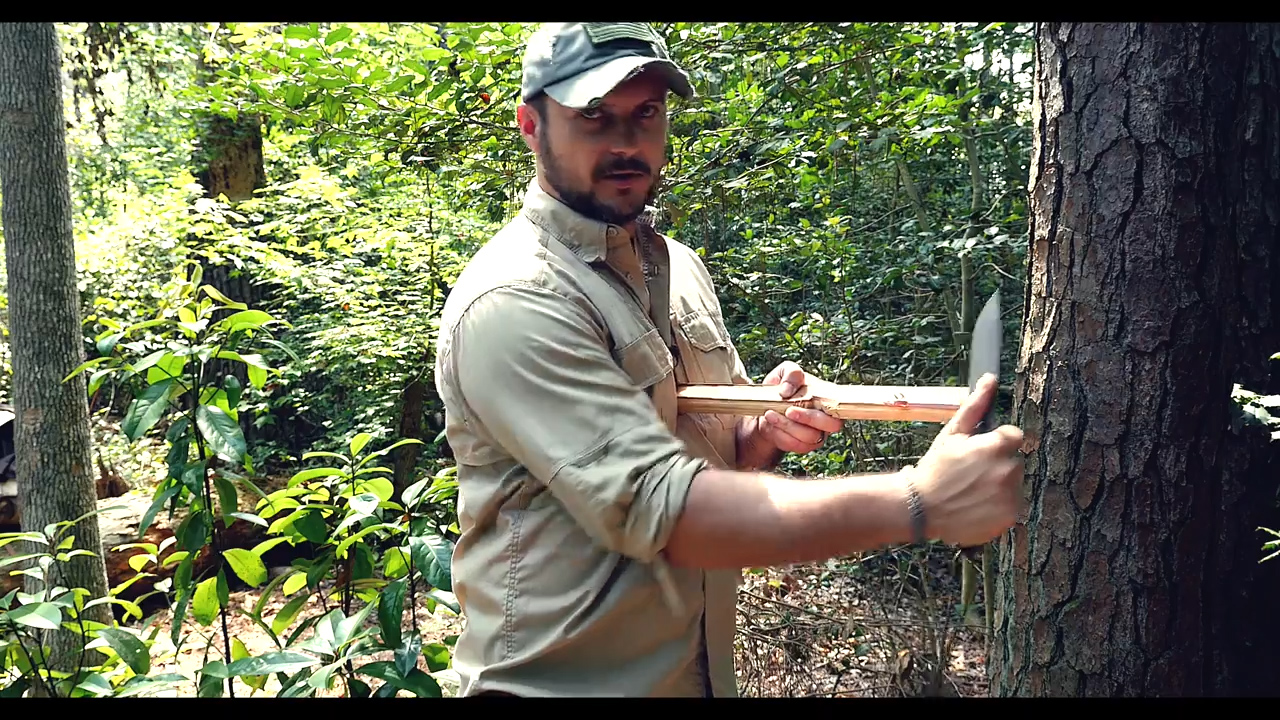knife: (950, 277, 1034, 503)
